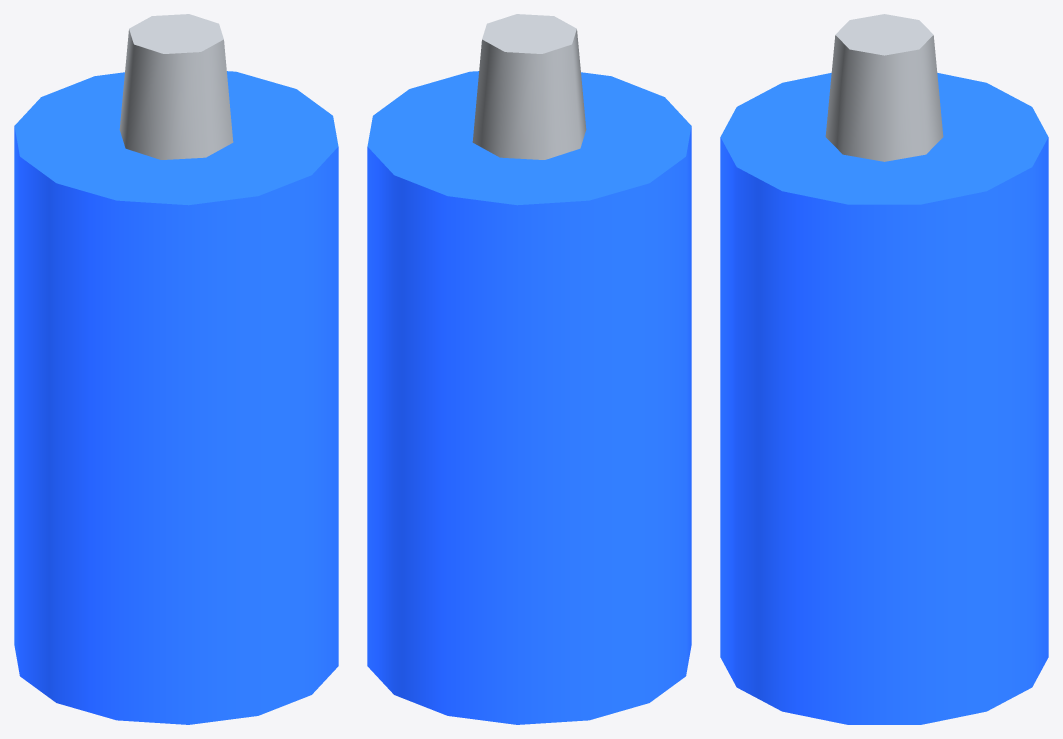
Rendered from pickup_nitro.glb.
3 renders of one model, left to right at view 1: azimuth 30°, elevation 25°; view 2: azimuth 150°, elevation 25°; view 3: azimuth 270°, elevation 25°, orthographic.
Visible parts, largest first — view 1: PickupNitro; view 2: PickupNitro; view 3: PickupNitro.
Boxes of the visible parts, x1,y1,x2,y2 form: PickupNitro: (14,14,338,724); PickupNitro: (367,14,691,724); PickupNitro: (720,14,1048,724).
Bounding box in the file's own units: 0.7799 × 1.67 × 0.8.
